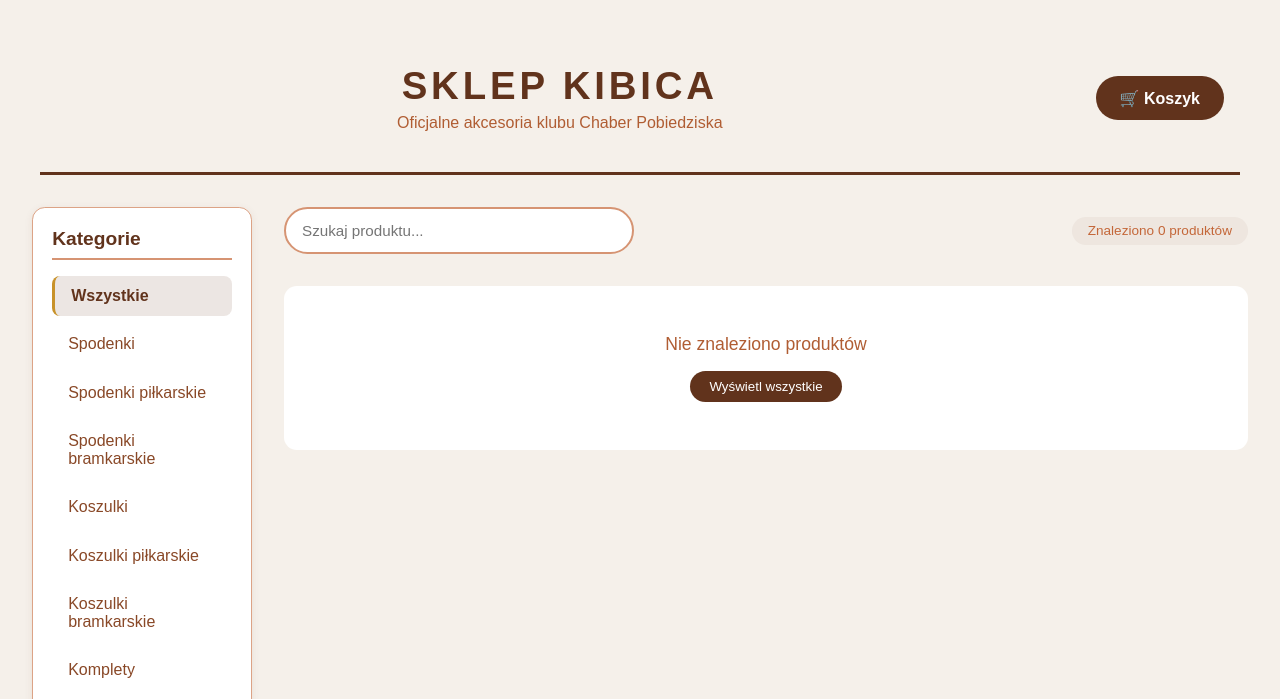
Test: Shop Component › should close cart modal
Click the button "🛒 Koszyk". click: point(1160, 98)
box: [1096,76,1224,120]
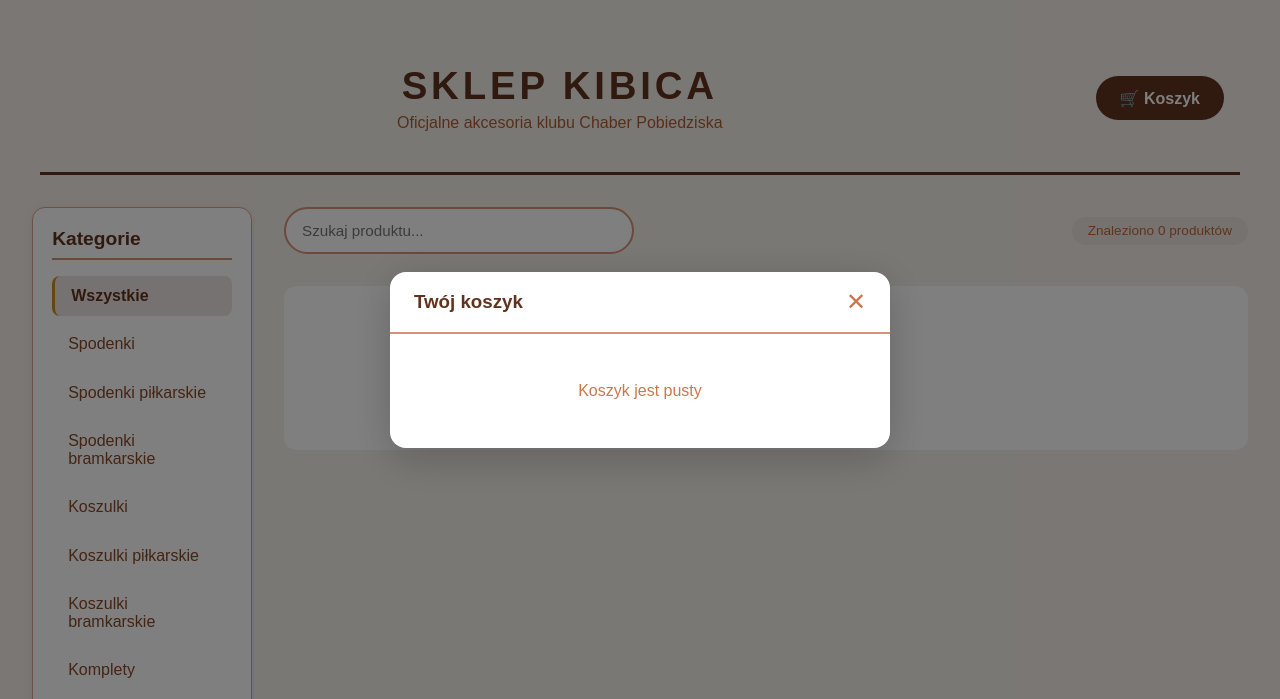
Expected: the heading "Twój koszyk" is shown, [414,291,523,313]
Click the button "✕". click: point(856, 302)
box: [846,288,866,316]
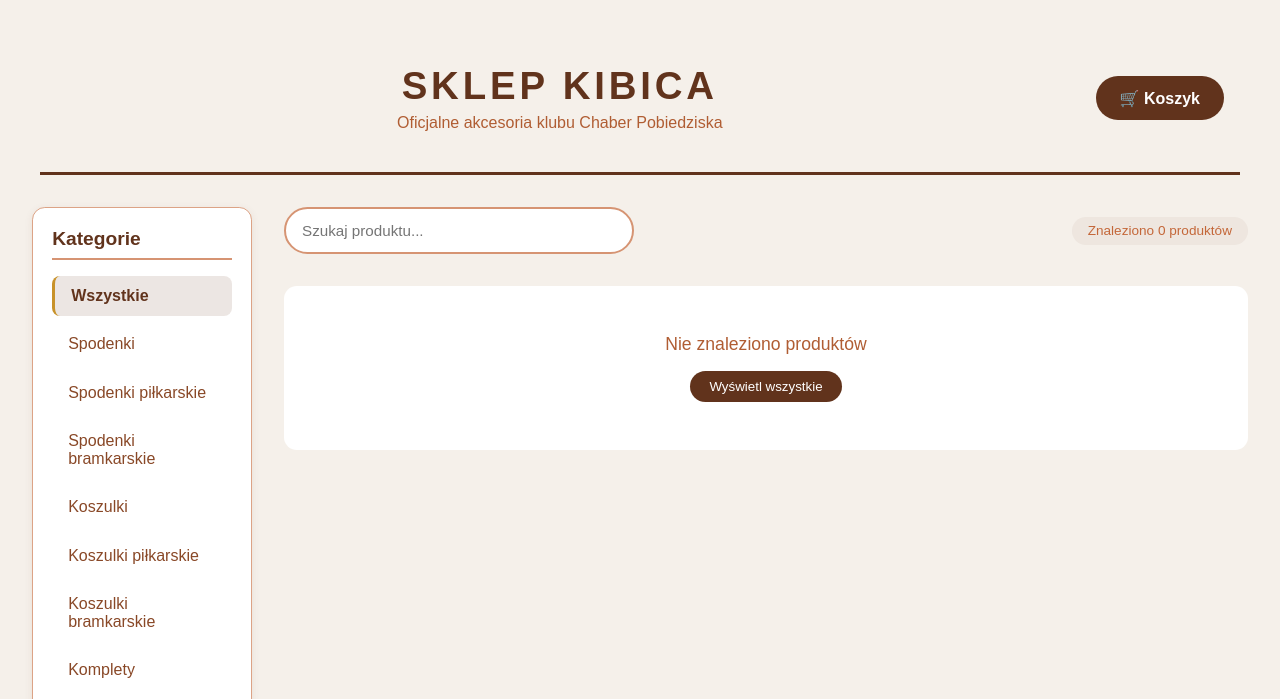
Expected: the heading "Twój koszyk" is gone
